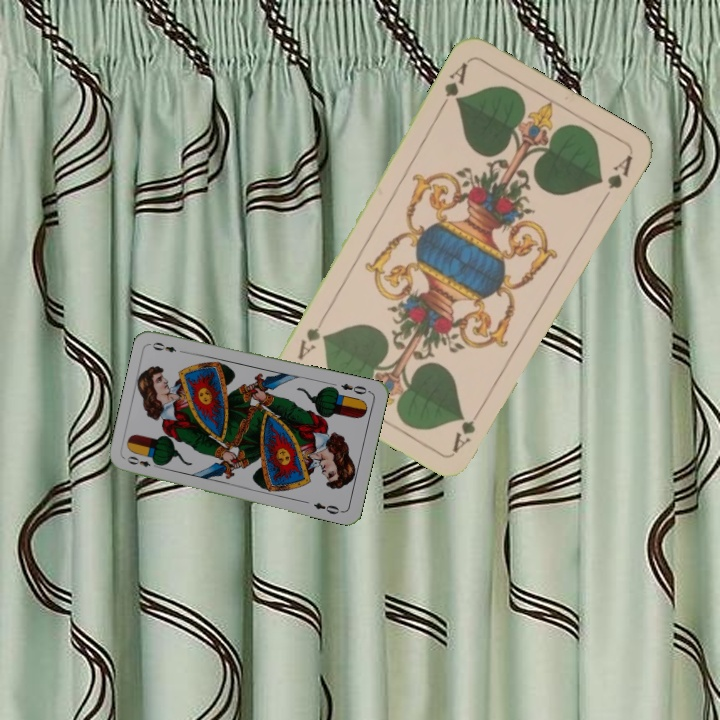EO: (123, 452, 162, 470), (337, 379, 373, 397)
GA: (448, 401, 486, 455), (436, 58, 470, 112)
